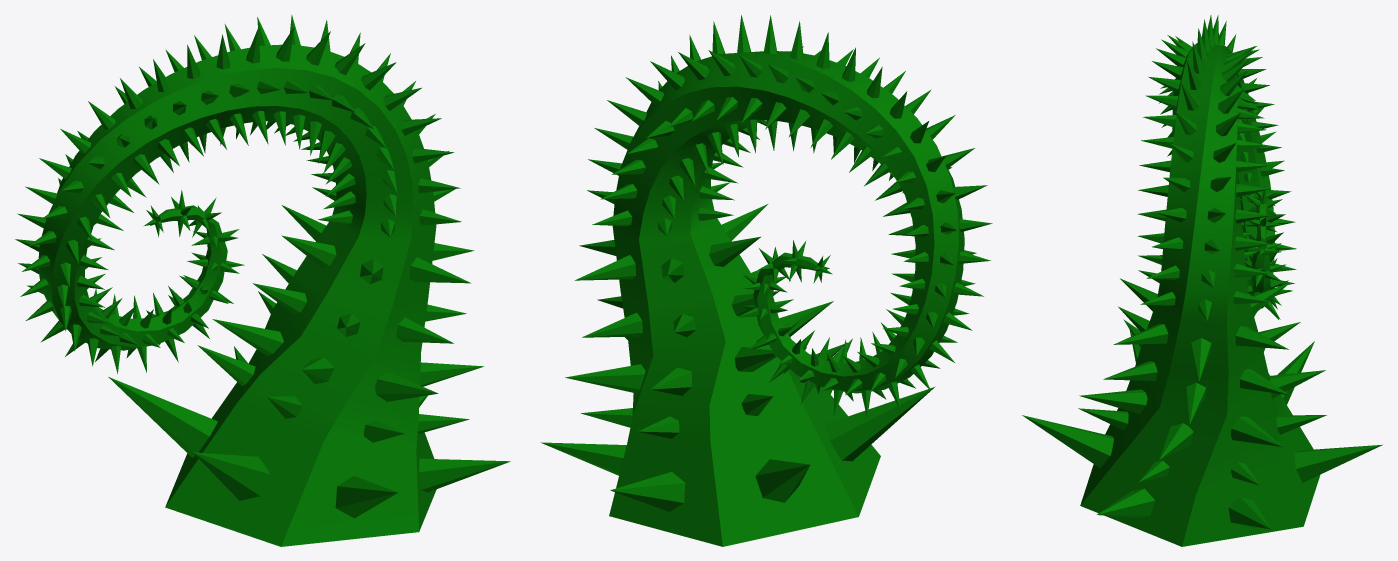
Rendered from Mesh_Espinafix_v003.fbx.
3 renders of one model, left to right at view 1: azimuth 30°, elevation 25°; view 2: azimuth 150°, elevation 25°; view 3: azimuth 270°, elevation 25°, orthographic. The views are drawn at different scales.
Parts seen in each view (by area): view 1: Mesh_Tallo_V3, Mesh_Espinas_V1_251, Mesh_Espinas_V1_252, Mesh_Espinas_V1_248, Mesh_Espinas_V1_247, Mesh_Espinas_V1_263, Mesh_Espinas_V1_259, Mesh_Espinas_V1_260, Mesh_Espinas_V1_271, Mesh_Espinas_V1_275, Mesh_Espinas_V1_257, Mesh_Espinas_V1_265 (+2 smaller); view 2: Mesh_Tallo_V3, Mesh_Espinas_V1_252, Mesh_Espinas_V1_250, Mesh_Espinas_V1_251, Mesh_Espinas_V1_249, Mesh_Espinas_V1_261, Mesh_Espinas_V1_273, Mesh_Espinas_V1_267, Mesh_Espinas_V1_275, Mesh_Espinas_V1_263, Mesh_Espinas_V1_262, Mesh_Espinas_V1_264 (+2 smaller); view 3: Mesh_Tallo_V3, Mesh_Espinas_V1_247, Mesh_Espinas_V1_250, Mesh_Espinas_V1_248, Mesh_Espinas_V1_259, Mesh_Espinas_V1_249, Mesh_Espinas_V1_261, Mesh_Espinas_V1_260, Mesh_Espinas_V1_273, Mesh_Espinas_V1_271, Mesh_Espinas_V1_265, Mesh_Espinas_V1_267 (+6 smaller).
Boxes of the visible parts, x1=… form: Mesh_Tallo_V3: x1=38, y1=44, x2=436, y2=546; Mesh_Espinas_V1_251: x1=108, y1=377, x2=217, y2=457; Mesh_Espinas_V1_252: x1=193, y1=452, x2=270, y2=500; Mesh_Espinas_V1_248: x1=419, y1=458, x2=510, y2=492; Mesh_Espinas_V1_247: x1=335, y1=475, x2=398, y2=518; Mesh_Espinas_V1_263: x1=212, y1=319, x2=283, y2=355; Mesh_Espinas_V1_259: x1=375, y1=371, x2=438, y2=401; Mesh_Espinas_V1_260: x1=420, y1=362, x2=484, y2=386; Mesh_Espinas_V1_271: x1=409, y1=257, x2=470, y2=283; Mesh_Espinas_V1_275: x1=281, y1=235, x2=336, y2=267; Mesh_Espinas_V1_257: x1=197, y1=345, x2=255, y2=386; Mesh_Espinas_V1_265: x1=396, y1=317, x2=453, y2=343; Mesh_Tallo_V3: x1=609, y1=51, x2=964, y2=546; Mesh_Espinas_V1_252: x1=825, y1=386, x2=935, y2=461; Mesh_Espinas_V1_250: x1=610, y1=471, x2=685, y2=511; Mesh_Espinas_V1_251: x1=755, y1=459, x2=810, y2=502; Mesh_Espinas_V1_249: x1=540, y1=442, x2=626, y2=475; Mesh_Espinas_V1_261: x1=565, y1=364, x2=645, y2=393; Mesh_Espinas_V1_273: x1=574, y1=255, x2=636, y2=280; Mesh_Espinas_V1_267: x1=582, y1=312, x2=642, y2=337; Mesh_Espinas_V1_275: x1=709, y1=236, x2=760, y2=266; Mesh_Espinas_V1_263: x1=735, y1=347, x2=776, y2=371; Mesh_Espinas_V1_262: x1=650, y1=367, x2=691, y2=395; Mesh_Espinas_V1_264: x1=779, y1=301, x2=833, y2=336; Mesh_Tallo_V3: x1=1080, y1=43, x2=1320, y2=546; Mesh_Espinas_V1_247: x1=1022, y1=415, x2=1113, y2=468; Mesh_Espinas_V1_250: x1=1294, y1=444, x2=1382, y2=482; Mesh_Espinas_V1_248: x1=1097, y1=488, x2=1154, y2=518; Mesh_Espinas_V1_259: x1=1079, y1=389, x2=1147, y2=414; Mesh_Espinas_V1_249: x1=1228, y1=497, x2=1271, y2=529; Mesh_Espinas_V1_261: x1=1231, y1=416, x2=1282, y2=446; Mesh_Espinas_V1_260: x1=1159, y1=423, x2=1193, y2=459; Mesh_Espinas_V1_273: x1=1235, y1=326, x2=1288, y2=349; Mesh_Espinas_V1_271: x1=1113, y1=324, x2=1168, y2=344; Mesh_Espinas_V1_265: x1=1103, y1=361, x2=1157, y2=380; Mesh_Espinas_V1_267: x1=1239, y1=369, x2=1289, y2=395.
Size of the model in its own units: 780 by 893 by 643.
